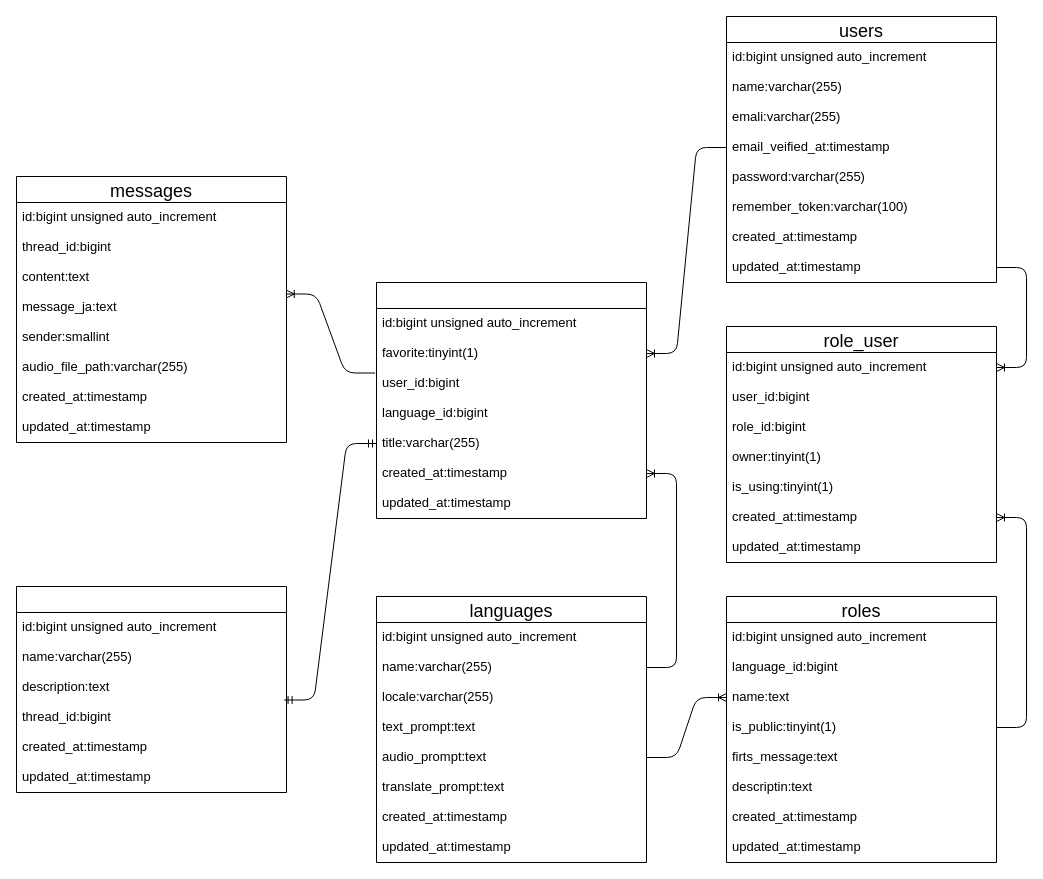
Image size: 1043x879. Some labels were removed from this diagram. The shapes that lost their labels are listed below. From the top down, each one's box as (x1, y1, x2, y2) in pixels, then its label:
(376, 282, 646, 518): threads
(16, 586, 286, 792): prompts
